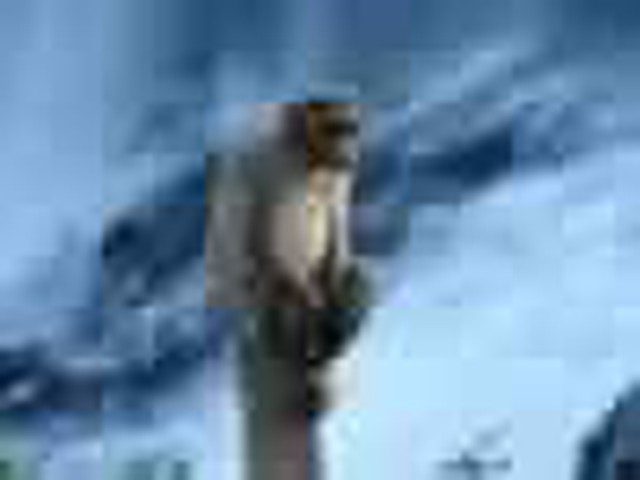Monkey: (190, 94, 367, 353)
